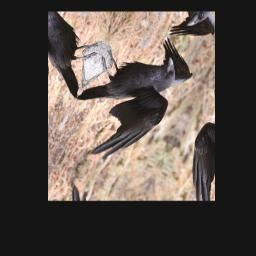Crow: (57, 13, 204, 181)
